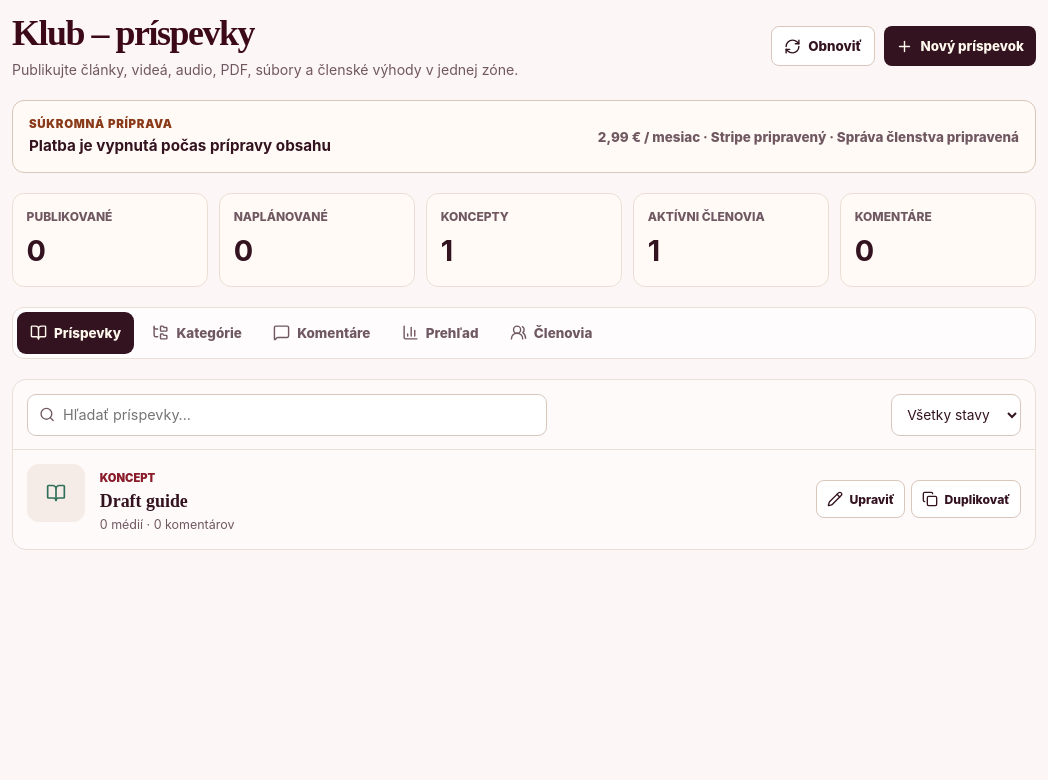
MembershipAdminSection › labels a one-time annual entitlement with its fixed end date
This screenshot has width=1048, height=780.
Click the button "Členovia" at (551, 333), box [497,312,605,354]
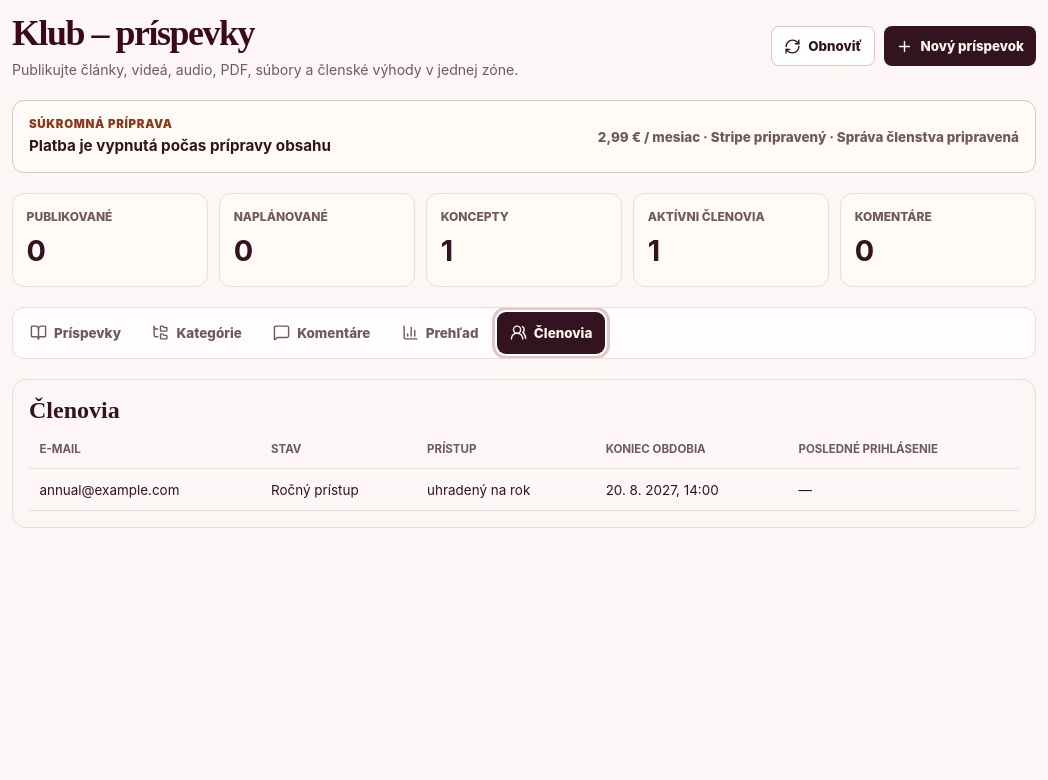
Expected: the text "annual@example.com" is shown, [29,469,261,511]
Expected: the text "Ročný prístup" is shown, [261,469,417,511]
Expected: the text "uhradený na rok" is shown, [417,469,595,511]
